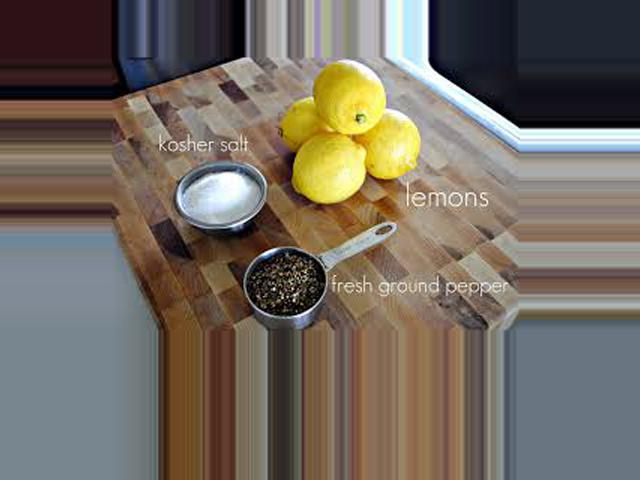lemon: (272, 100, 330, 154)
